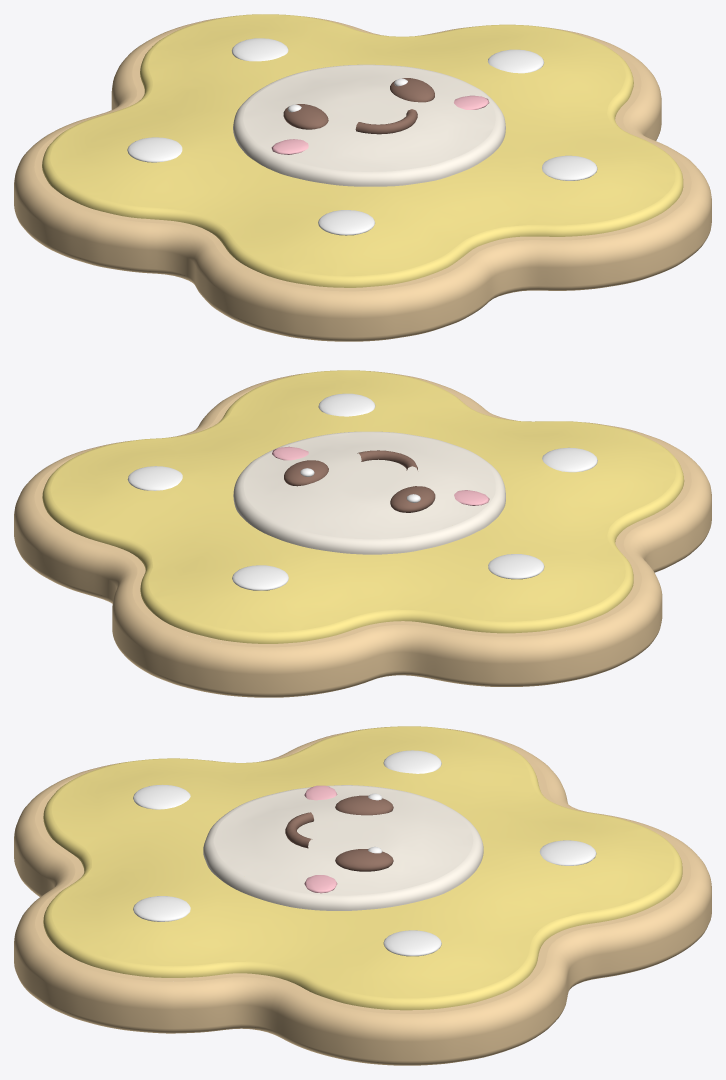
Rendered from FlowerCookie.glb.
The picture shows the model from 3 angles, top to bottom: view 1: azimuth 30°, elevation 25°; view 2: azimuth 150°, elevation 25°; view 3: azimuth 270°, elevation 25°; orthographic projection. The views are drawn at different scales.
Visible parts, largest first — view 1: Icing, Cookie, Icing2, Dots, Face, Cheeks; view 2: Icing, Cookie, Icing2, Dots, Face, Cheeks; view 3: Icing, Cookie, Icing2, Dots, Face, Cheeks.
Part boxes in pixels (x1,y1,x2,y2): Icing: (42,14,683,287); Cookie: (14,15,711,341); Icing2: (233,64,505,186); Dots: (127,38,597,235); Face: (283,78,434,134); Cheeks: (271,95,489,154); Icing: (42,370,684,643); Cookie: (14,371,711,697); Icing2: (233,431,505,554); Dots: (127,393,597,590); Face: (284,450,435,512); Cheeks: (272,446,489,505); Icing: (43,726,682,1010); Cookie: (14,726,711,1065); Icing2: (203,785,483,910); Dots: (133,750,596,956); Face: (285,795,393,871); Cheeks: (304,785,337,893).
Size of the model in its own units: 10.26 by 1.46 by 9.98.
